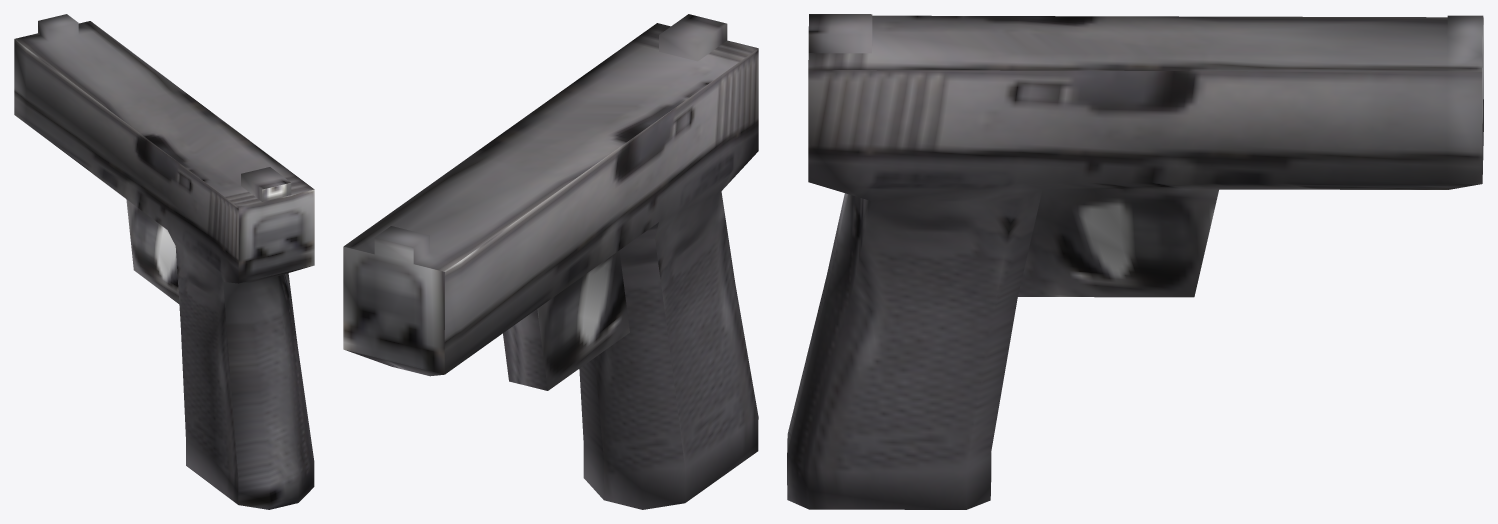
The model's file is glock.fbx.
3 views of the same model, side by side, from view 1: azimuth 30°, elevation 25°; view 2: azimuth 150°, elevation 25°; view 3: azimuth 270°, elevation 25° (orthographic). The views are drawn at different scales.
Visible parts, largest first — view 1: glock; view 2: glock; view 3: glock.
Part boxes in pixels (left/top/right/bottom): glock: left=14, top=14, right=314, bottom=509; glock: left=343, top=14, right=758, bottom=509; glock: left=787, top=14, right=1483, bottom=509.
Size of the model in its own units: 0.0417 by 0.2142 by 0.1581.
1 material, 1 textured.
